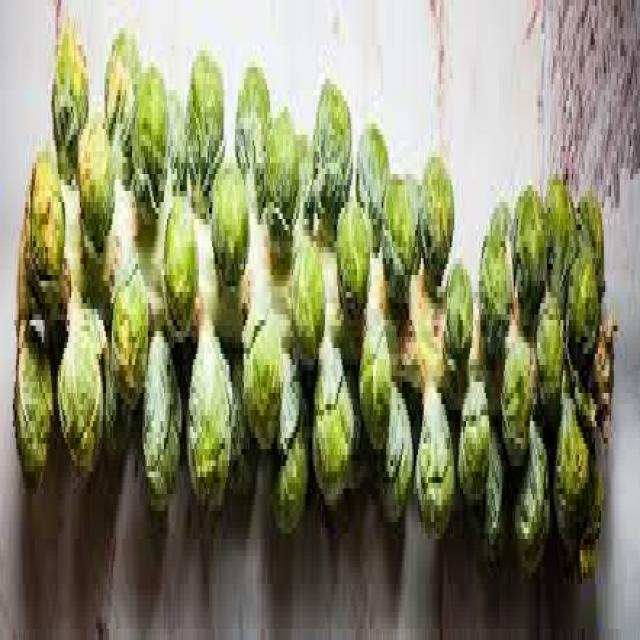organic waste: (11, 17, 612, 578), (550, 376, 599, 573), (186, 298, 231, 505), (50, 292, 101, 472), (302, 73, 350, 225), (410, 365, 452, 533), (138, 326, 178, 500), (238, 281, 280, 444), (266, 359, 306, 522), (109, 247, 149, 410), (475, 388, 512, 562), (129, 62, 170, 219), (13, 314, 51, 483), (312, 337, 351, 494), (74, 107, 116, 247), (511, 404, 548, 562), (374, 371, 414, 516), (357, 292, 392, 455), (476, 196, 512, 354), (22, 146, 62, 286), (183, 45, 220, 191), (263, 84, 296, 247), (286, 219, 325, 354), (158, 186, 199, 314), (509, 168, 546, 309), (210, 140, 250, 270), (498, 314, 532, 460), (286, 230, 324, 359), (232, 67, 270, 196), (103, 23, 136, 168), (456, 365, 490, 505), (531, 281, 566, 415), (541, 163, 575, 297), (380, 157, 418, 275), (52, 22, 86, 152), (99, 343, 129, 477), (563, 236, 595, 359), (416, 151, 450, 264), (224, 348, 251, 488), (336, 196, 368, 314), (439, 242, 468, 371), (354, 112, 383, 236), (346, 359, 364, 472), (576, 180, 600, 252), (164, 79, 180, 174), (289, 118, 306, 185)
